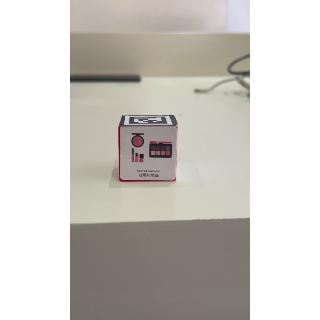Expired_Cosmetic: (120, 127, 180, 184)
